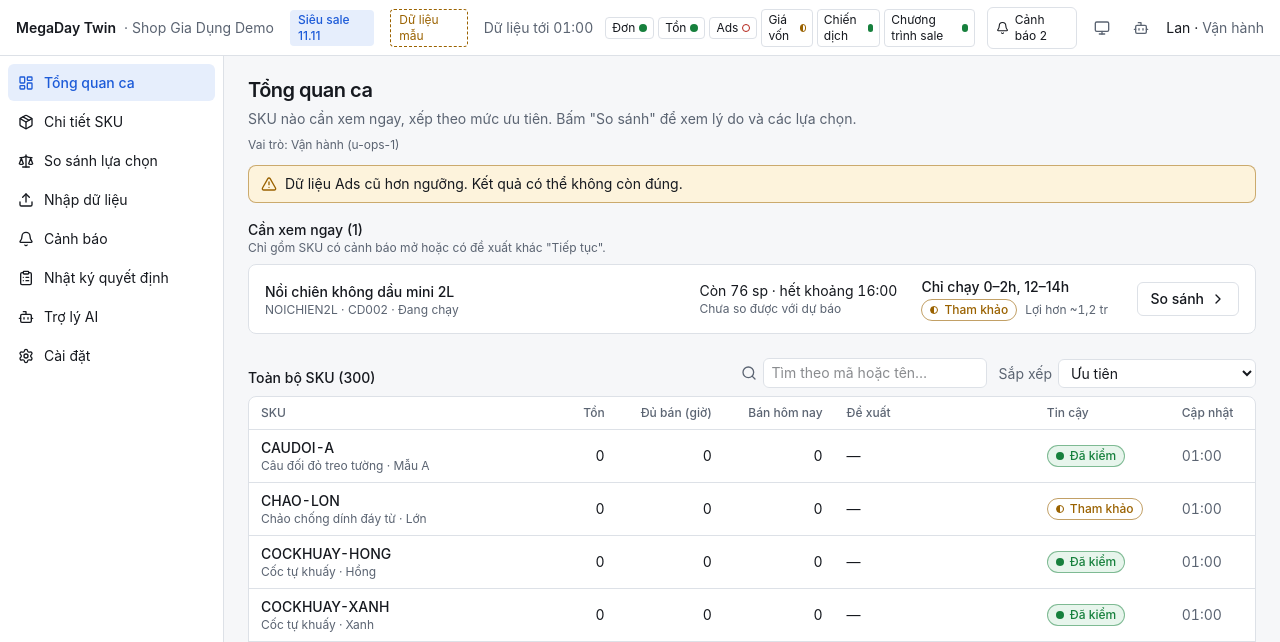
Test: Compare entry and overview link › overview "So sánh" opens the compare screen for the SKU
Click the link "So sánh" at (1188,299), box [1137,282,1239,316]
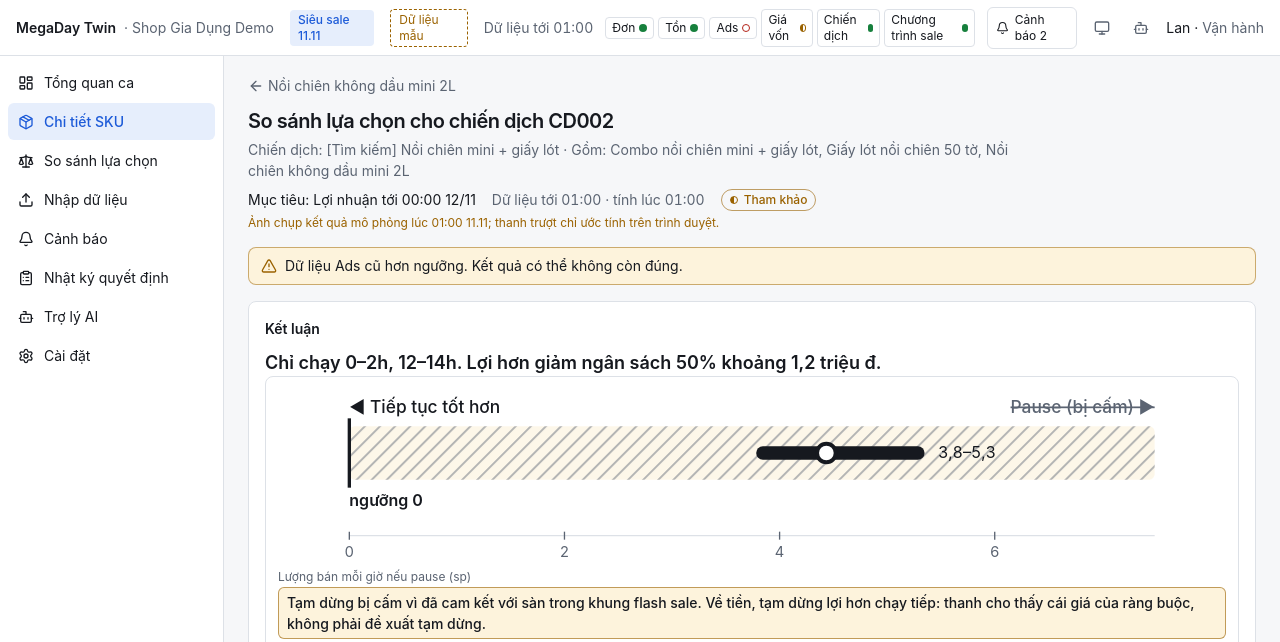
expect the text "Lợi hơn giảm ngân sách 50% khoảng 1,2 triệu đ" is shown: met, box [265,352,882,373]
